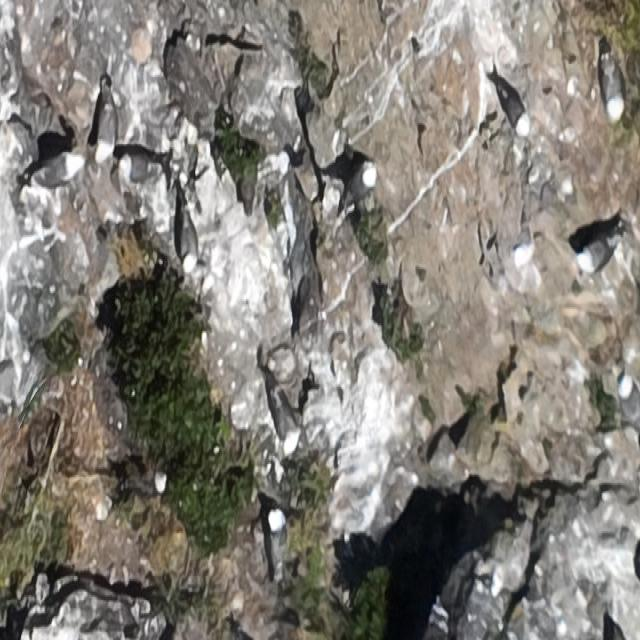umineko: (266, 378, 304, 458), (496, 75, 532, 137), (340, 161, 376, 213), (175, 200, 199, 276), (94, 87, 117, 166), (39, 151, 84, 187), (118, 151, 162, 184), (94, 486, 126, 524), (603, 67, 625, 120), (268, 515, 287, 573), (579, 237, 612, 270), (128, 470, 169, 496), (620, 376, 639, 420)
